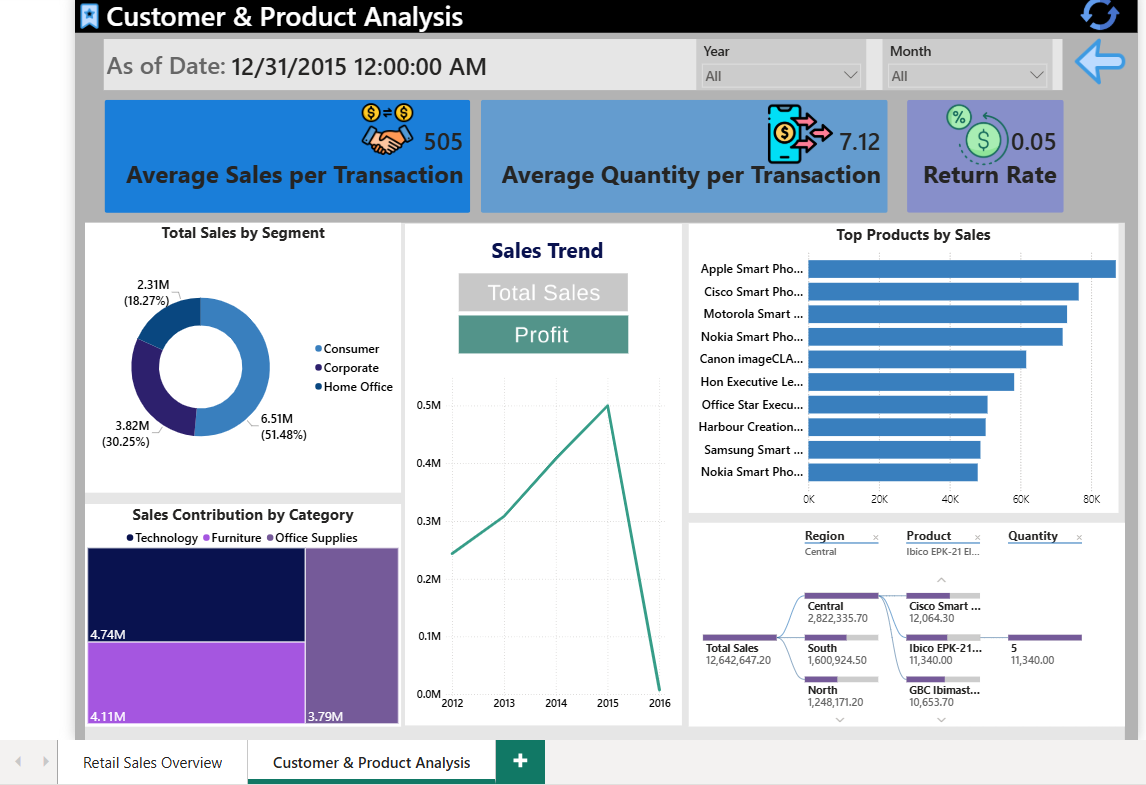

What the dashboard file says about the page in this screenshot:
{"tool":"powerbi","page":{"name":"Customer & Product Analysis","canvas":[1880,1320],"ordinal":1},"visuals":[{"type":"shape","box":[0,0,1880,68.6],"z":0},{"type":"shape","box":[50.9,79.6,1696.5,90.7],"z":1000},{"type":"cardVisual","fields":{"Data":["DAX.Average Sales per Transaction"]},"box":[35.4,170.3,681.2,234.5],"z":2000},{"type":"shape","box":[17.7,404.8,1840.2,915.7],"z":3000},{"type":"shape","box":[17.7,404.8,559.6,477.8],"z":4000},{"type":"shape","box":[585,407.5,490,887.5],"z":5000},{"type":"shape","box":[1086,406.9,760.5,511.2],"z":6000},{"type":"shape","box":[17.7,902.4,559.6,393.7],"z":7000},{"type":"shape","box":[1086,935.6,771.9,360.5],"z":8000},{"type":"cardVisual","fields":{"Data":["DAX.Average Quantity per Transaction"]},"box":[701.1,170.3,754.2,234.5],"z":9000},{"type":"cardVisual","fields":{"Data":["DAX.As of Date"]},"box":[247.7,79.6,537.5,90.7],"z":10000},{"type":"textbox","box":[50.9,90.7,309.7,70.8],"z":11000},{"type":"cardVisual","fields":{"Data":["DAX.Return Rate"]},"box":[1455.4,170.3,311.9,234.5],"z":12000},{"type":"image","box":[1747.3,0,132.7,68.6],"z":13000},{"type":"textbox","box":[727.7,422.5,216.8,70.8],"z":14000},{"type":"textbox","box":[50.9,0,705.6,79.6],"z":15000},{"type":"slicer","fields":{"Values":["Date_Table.Year"]},"box":[1099.3,79.6,300.8,90.7],"z":16000},{"type":"slicer","fields":{"Values":["Date_Table.Date.Variation.Date Hierarchy.Month"]},"box":[1428.8,79.6,300.8,90.7],"z":17000},{"type":"image","box":[477.8,190.2,150.4,97.3],"z":18000},{"type":"image","box":[1225.3,190.2,117.2,115],"z":19000},{"type":"image","box":[1497.4,190.2,199.1,117.2],"z":20000},{"type":"donutChart","fields":{"Category":["Orders.Segment"],"Y":["DAX.Total Sales"]},"box":[17.7,402.5,559.6,480],"z":21000},{"type":"clusteredBarChart","title":"Top Products by Sales","fields":{"Category":["Orders.Product Name"],"Y":["DAX.Total Sales"]},"box":[1085,407.5,795,510],"z":22000},{"type":"treemap","title":"Sales Contribution by Category","fields":{"Group":["Orders.Category"],"Values":["DAX.Total Sales"]},"box":[17.7,902.4,559.6,393.7],"z":23000},{"type":"decompositionTreeVisual","fields":{"Analyze":["DAX.Total Sales"],"ExplainBy":["Orders.Region","Orders.Product Name","Orders.Quantity"]},"box":[1080.9,935.9,773.2,361.2],"z":25000},{"type":"image","box":[1747.3,68.6,132.7,101.7],"z":26000},{"type":"image","box":[0,0,50.9,78.8],"z":27000},{"type":"image","title":"sales off","box":[679.4,491.9,299.5,73.1],"z":31000},{"type":"image","title":"profit on","box":[680,565,300,77.5],"z":32000},{"type":"lineChart","fields":{"Category":["Date_Table.Date.Variation.Date Hierarchy.Year","Date_Table.Date.Variation.Date Hierarchy.Month"],"Y":["Sum(Orders.Profit)"]},"box":[599.4,663.5,460.1,614.9],"z":32002}]}

Visuals, with their boxes on the page's 1880x1320 design canvas (x1, y1, x2, y2). These are canvas units, not pixel positions in the 1146x785 screenshot, which may show the page scaled, cropped or inside an application window:
shape: box(0, 0, 1880, 69)
shape: box(51, 80, 1747, 170)
cardVisual - DAX.Average Sales per Transaction: box(35, 170, 717, 405)
shape: box(18, 405, 1858, 1320)
shape: box(18, 405, 577, 883)
shape: box(585, 408, 1075, 1295)
shape: box(1086, 407, 1846, 918)
shape: box(18, 902, 577, 1296)
shape: box(1086, 936, 1858, 1296)
cardVisual - DAX.Average Quantity per Transaction: box(701, 170, 1455, 405)
cardVisual - DAX.As of Date: box(248, 80, 785, 170)
textbox: box(51, 91, 361, 162)
cardVisual - DAX.Return Rate: box(1455, 170, 1767, 405)
image: box(1747, 0, 1880, 69)
textbox: box(728, 422, 944, 493)
textbox: box(51, 0, 756, 80)
slicer - Date_Table.Year: box(1099, 80, 1400, 170)
slicer - Date_Table.Date.Variation.Date Hierarchy.Month: box(1429, 80, 1730, 170)
image: box(478, 190, 628, 288)
image: box(1225, 190, 1342, 305)
image: box(1497, 190, 1696, 307)
donutChart - Orders.Segment x DAX.Total Sales: box(18, 402, 577, 882)
"Top Products by Sales" clusteredBarChart: box(1085, 408, 1880, 918)
"Sales Contribution by Category" treemap: box(18, 902, 577, 1296)
decompositionTreeVisual - DAX.Total Sales x Orders.Region: box(1081, 936, 1854, 1297)
image: box(1747, 69, 1880, 170)
image: box(0, 0, 51, 79)
"sales off" image: box(679, 492, 979, 565)
"profit on" image: box(680, 565, 980, 642)
lineChart - Date_Table.Date.Variation.Date Hierarchy.Year x Date_Table.Date.Variation.Date Hierarchy.Month: box(599, 664, 1060, 1278)
